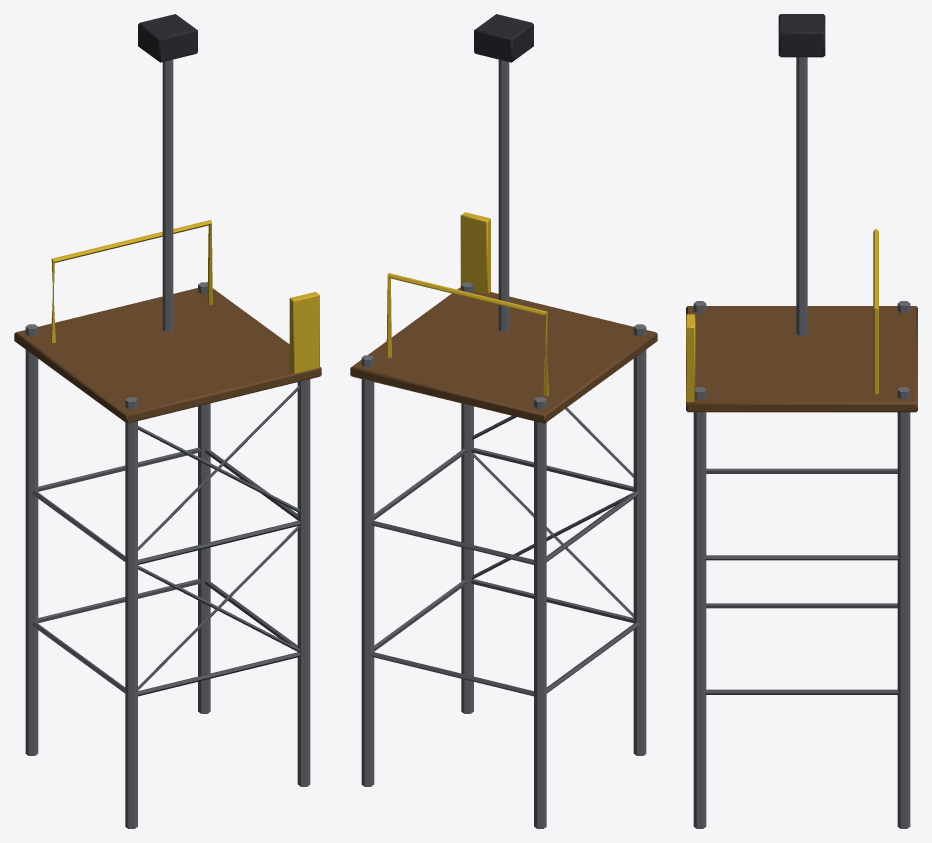
Rendered from zip_tower.glb.
The picture shows the model from 3 angles, left to right: view 1: azimuth 30°, elevation 25°; view 2: azimuth 150°, elevation 25°; view 3: azimuth 270°, elevation 25°; orthographic projection. The views are drawn at different scales.
Visible parts, largest first — view 1: zip_tower; view 2: zip_tower; view 3: zip_tower.
Boxes of the visible parts, bbox=[...] form: zip_tower: bbox=[14, 14, 321, 828]; zip_tower: bbox=[350, 14, 657, 828]; zip_tower: bbox=[686, 14, 917, 828].
Bounding box in the file's own units: 2.5 × 9.05 × 2.5.
